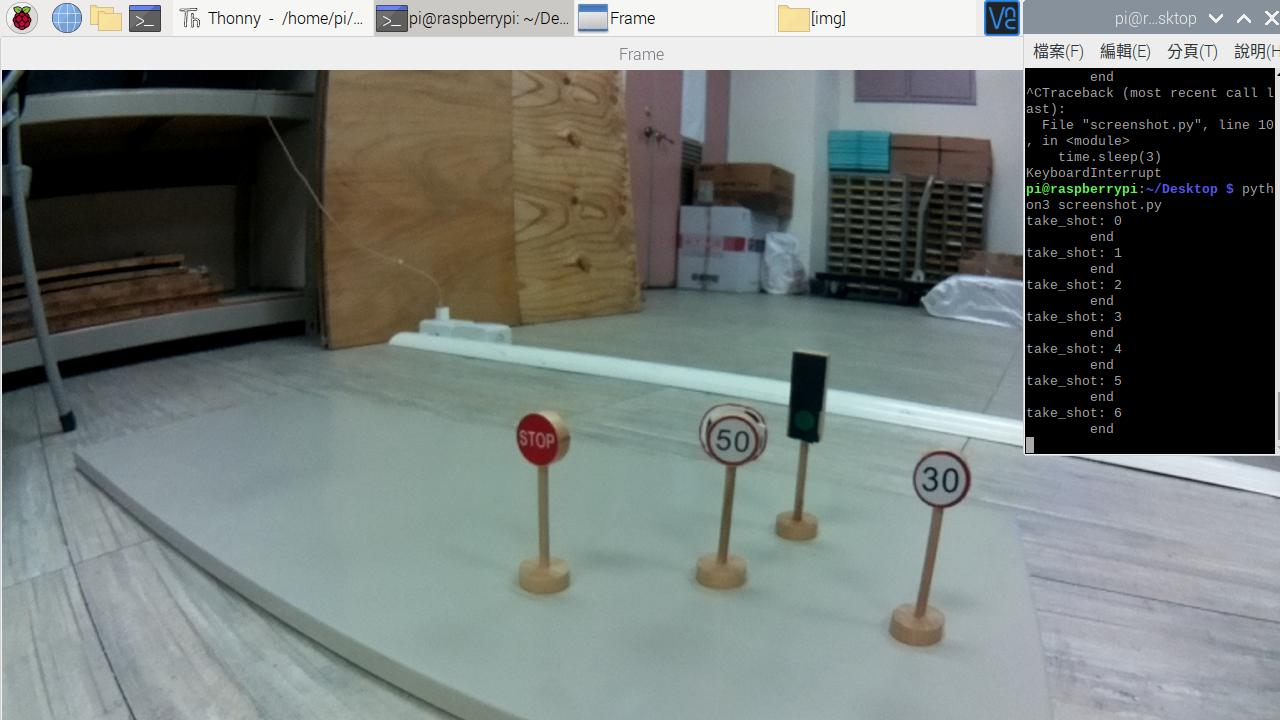Green: (790, 347, 822, 446)
Speed30: (914, 446, 967, 511)
Speed50: (707, 405, 758, 470)
Stop: (514, 408, 564, 466)
